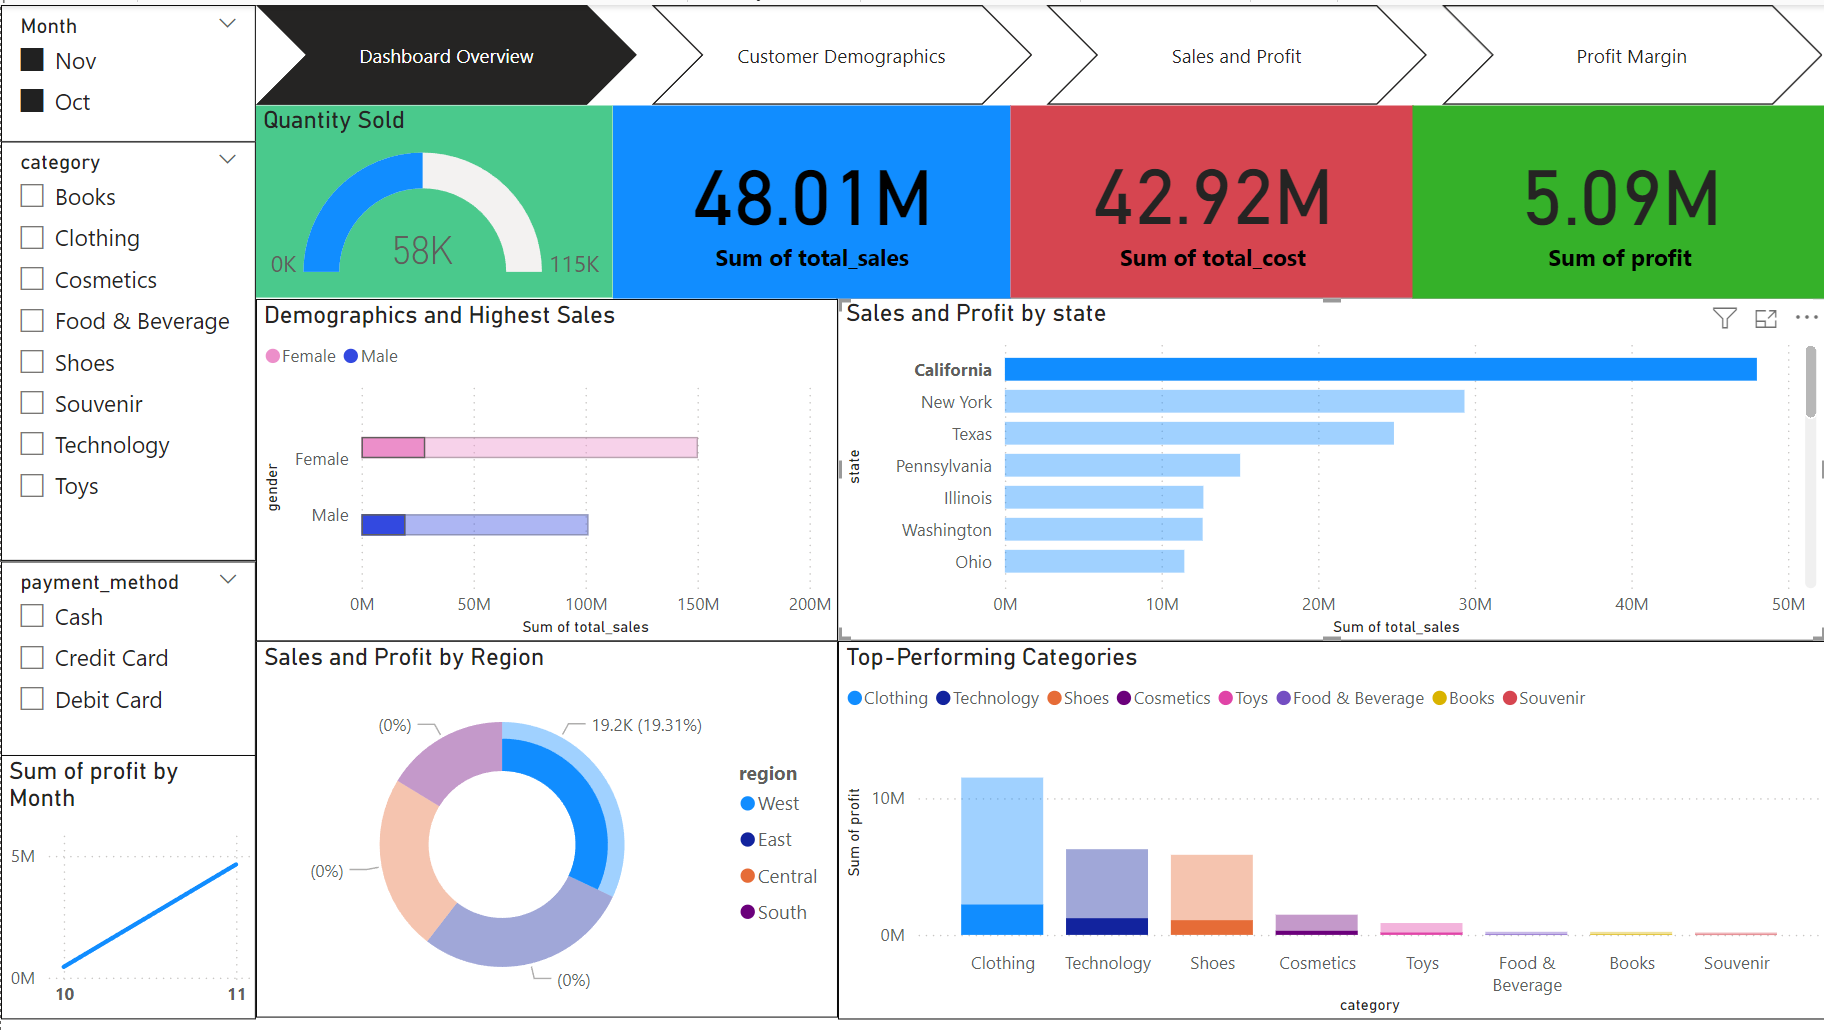

The page's visual inventory and layout, read from the dashboard file:
{"tool":"powerbi","page":{"name":"Dashboard Overview","canvas":[1280,720],"ordinal":0},"visuals":[{"type":"slicer","fields":{"Values":["Table2.First Characters"]},"box":[0,0,178.4,96.2],"z":0},{"type":"slicer","fields":{"Values":["Table2.payment_method"]},"box":[0,390.2,178.8,145.1],"z":1000},{"type":"card","fields":{"Values":["Sum(Table2.total_sales)"]},"box":[428.7,0,279.3,135.6],"z":2000},{"type":"card","fields":{"Values":["Sum(Table2.total_cost)"]},"box":[708,1.2,282.7,134.4],"z":3000},{"type":"card","fields":{"Values":["Sum(Table2.profit)"]},"box":[990.7,0,289.7,135.6],"z":4000},{"type":"slicer","fields":{"Values":["Table2.category"]},"box":[0,96.2,178.4,294.3],"z":5000},{"type":"clusteredBarChart","title":"Sales and Profit by state","fields":{"Category":["Table2.state"],"Y":["Sum(Table2.total_sales)"]},"box":[708,135.6,572.4,265.3],"z":6000},{"type":"donutChart","title":"Sales and Profit by Region ","fields":{"Category":["Table2.region"],"Y":["CountNonNull(Table2.region)"]},"box":[178.4,360.4,529.5,349.9],"z":7000},{"type":"gauge","title":"Quantity Sold","fields":{"Y":["Sum(Table2.quantity)"]},"box":[178.4,0,250.3,135.6],"z":8000},{"type":"columnChart","title":"Top-Performing Categories","fields":{"Category":["Table2.category"],"Y":["Sum(Table2.profit)"],"Series":["Table2.category"]},"box":[708,400.9,572.4,309.4],"z":9000},{"type":"clusteredBarChart","title":"Demographics and Highest Sales","fields":{"Category":["Table2.gender"],"Y":["Sum(Table2.total_sales)"],"Series":["Table2.gender"]},"box":[178.4,135.6,529.5,224.8],"z":10000},{"type":"lineChart","fields":{"Category":["Table2.Month"],"Y":["Sum(Table2.profit)"]},"box":[0,525.8,178.8,185.1],"z":11000}]}

Visuals, with their boxes on the page's 1280x720 design canvas (x1, y1, x2, y2). These are canvas units, not pixel positions in the 1824x1032 screenshot, which may show the page scaled, cropped or inside an application window:
slicer - Table2.First Characters: (0,0,178,96)
slicer - Table2.payment_method: (0,390,179,535)
card - Sum(Table2.total_sales): (429,0,708,136)
card - Sum(Table2.total_cost): (708,1,991,136)
card - Sum(Table2.profit): (991,0,1280,136)
slicer - Table2.category: (0,96,178,390)
"Sales and Profit by state" clusteredBarChart: (708,136,1280,401)
"Sales and Profit by Region " donutChart: (178,360,708,710)
"Quantity Sold" gauge: (178,0,429,136)
"Top-Performing Categories" columnChart: (708,401,1280,710)
"Demographics and Highest Sales" clusteredBarChart: (178,136,708,360)
lineChart - Table2.Month x Sum(Table2.profit): (0,526,179,711)
